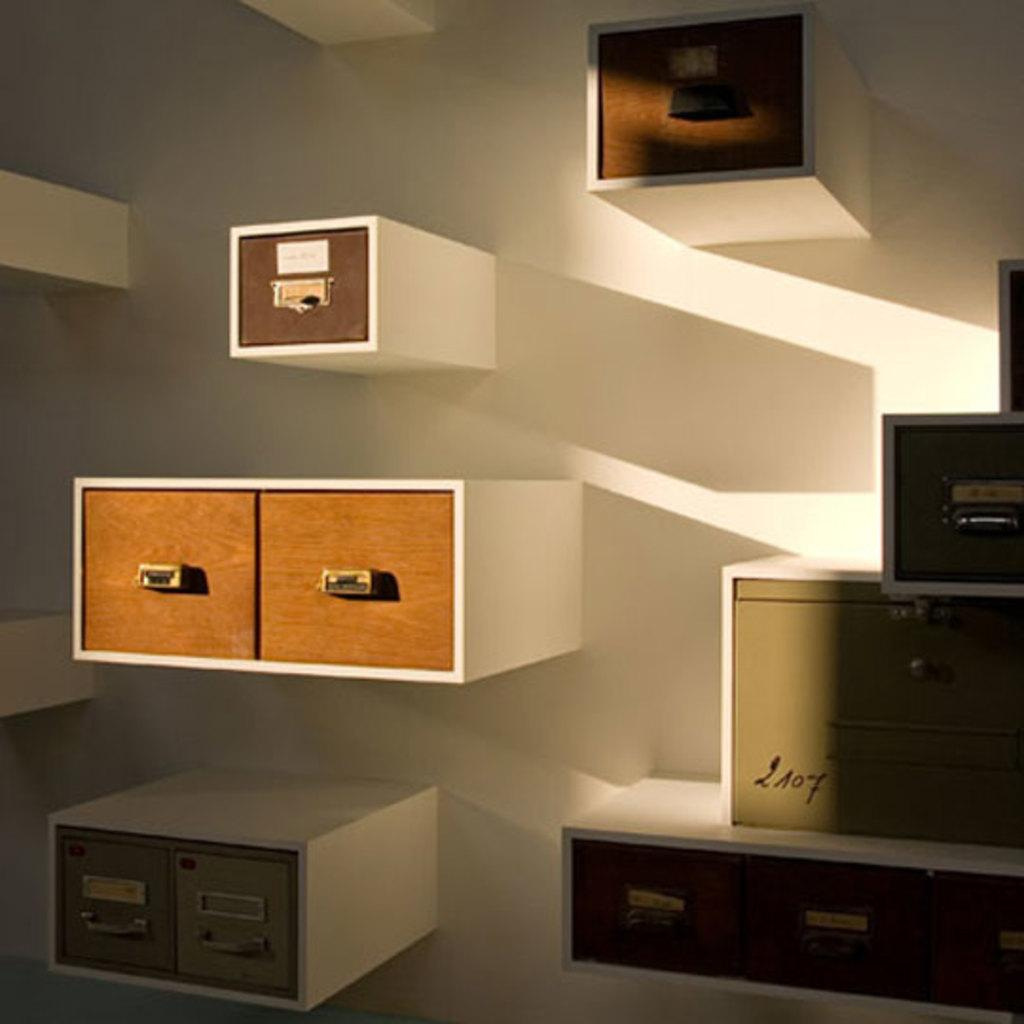cabinet_door: (734, 593, 1024, 826), (249, 498, 452, 668), (86, 495, 256, 650), (605, 44, 791, 156), (750, 880, 920, 988), (170, 856, 300, 987), (59, 831, 179, 970), (905, 434, 1024, 568), (238, 238, 374, 344), (594, 858, 734, 960), (931, 894, 1024, 1008)
handle: (828, 700, 1004, 751), (78, 894, 152, 948), (314, 556, 386, 609), (274, 282, 342, 330), (192, 926, 270, 964), (952, 503, 1024, 539), (121, 566, 191, 602)
